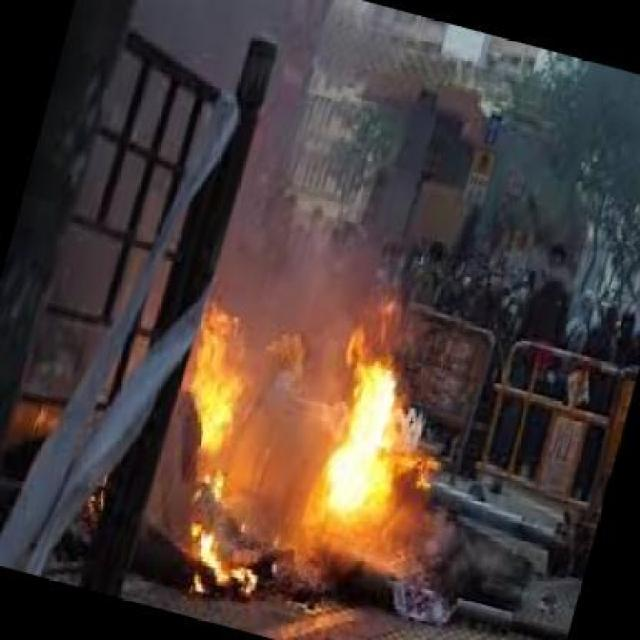Fire: (321, 342, 418, 524), (178, 326, 268, 472)
Smoke: (220, 26, 404, 278)
